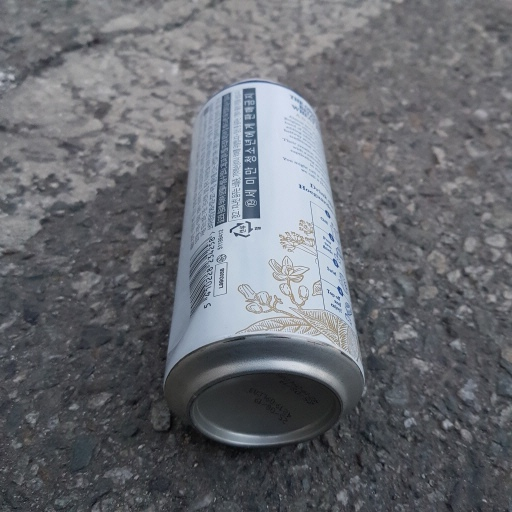Metal_0: (156, 80, 368, 444)
